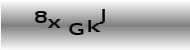8: (34, 10, 47, 24)
G: (67, 22, 84, 36)
J: (98, 8, 106, 24)
k: (87, 19, 101, 33)
x: (47, 18, 62, 29)
